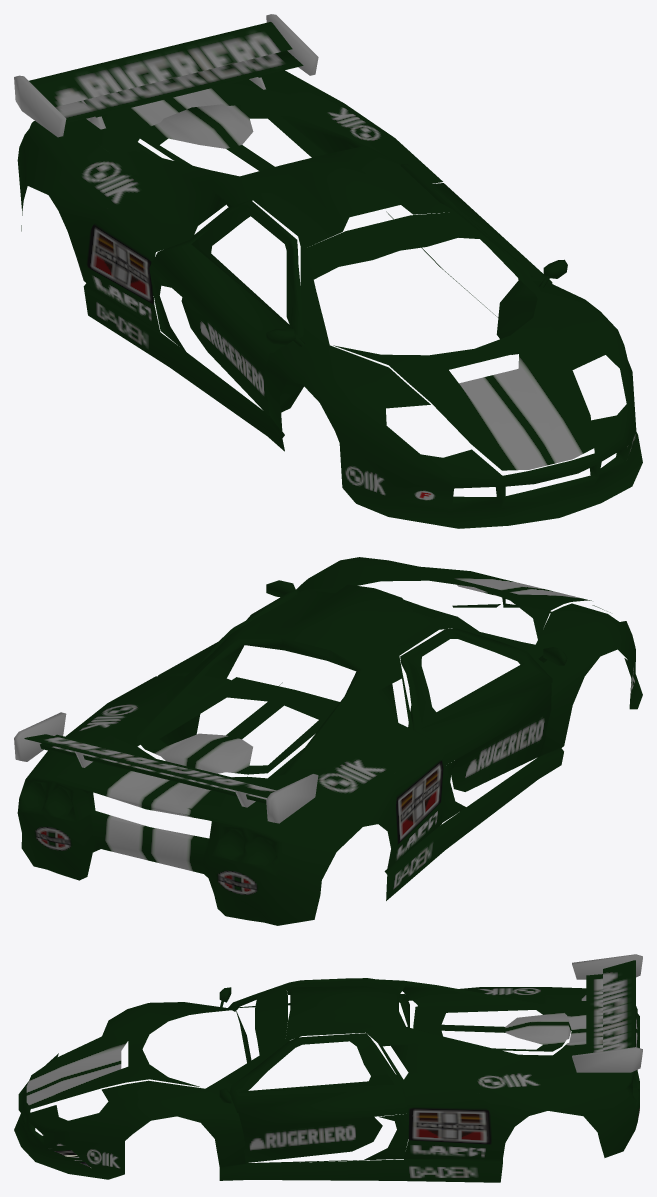
The model's file is car-SUPR_Car9.glb.
3 views of the same model, one above another, from view 1: azimuth 30°, elevation 25°; view 2: azimuth 150°, elevation 25°; view 3: azimuth 270°, elevation 25° (orthographic). The views are drawn at different scales.
Visible parts, largest first — view 1: SUPR_Car9; view 2: SUPR_Car9; view 3: SUPR_Car9.
Boxes of the visible parts, bbox=[...] form: SUPR_Car9: bbox=[14, 14, 642, 528]; SUPR_Car9: bbox=[14, 557, 642, 925]; SUPR_Car9: bbox=[14, 954, 642, 1182].
Size of the model in its own units: 2.16 by 1.17 by 4.87.
6 materials, 6 textured.
